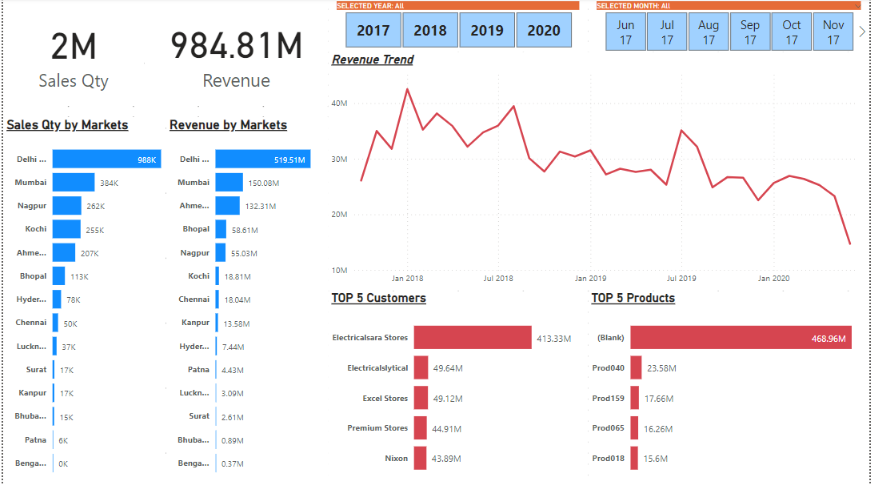

What the dashboard file says about the page in this screenshot:
{"tool":"powerbi","page":{"name":"Page 1","canvas":[1280,720],"ordinal":0},"visuals":[{"type":"card","fields":{"Values":["BaseMeasures.Revenue"]},"box":[208,0,272,160],"z":0},{"type":"card","fields":{"Values":["BaseMeasures.Sales Qty"]},"box":[0,0,208,160],"z":1000},{"type":"barChart","title":"Revenue by Markets","fields":{"Y":["BaseMeasures.Revenue"],"Category":["sales markets.markets_name"]},"box":[240,176,240,544],"z":2000},{"type":"barChart","title":"Sales Qty by Markets","fields":{"Y":["BaseMeasures.Sales Qty"],"Category":["sales markets.markets_name"]},"box":[0,176,240,544],"z":3000},{"type":"slicer","fields":{"Values":["sales date.year"]},"box":[480,0,384,80],"z":4000},{"type":"slicer","fields":{"Values":["sales date.cy_date"]},"box":[864,0,416,80],"z":5000},{"type":"barChart","title":"TOP 5 Customers","fields":{"Y":["BaseMeasures.Revenue"],"Category":["sales customers.custmer_name"]},"box":[480,432,384,288],"z":6000},{"type":"barChart","title":"TOP 5 Products","fields":{"Y":["BaseMeasures.Revenue"],"Category":["sales products.product_code"]},"box":[864,432,416,288],"z":7000},{"type":"lineChart","title":"Revenue Trend","fields":{"Y":["BaseMeasures.Revenue"],"Category":["sales date.cy_date.Variation.Date Hierarchy.Year","sales date.cy_date.Variation.Date Hierarchy.Quarter","sales date.cy_date.Variation.Date Hierarchy.Month","sales date.cy_date.Variation.Date Hierarchy.Day"]},"box":[480,80,800,352],"z":8000}]}

Visuals, with their boxes in screenshot pixels (x1, y1, x2, y2), scaled from the page's 1280x720 canvas onto the 871x485 screenshot:
card - BaseMeasures.Revenue: select_region(142, 0, 327, 108)
card - BaseMeasures.Sales Qty: select_region(0, 0, 142, 108)
"Revenue by Markets" barChart: select_region(163, 119, 327, 484)
"Sales Qty by Markets" barChart: select_region(0, 119, 163, 484)
slicer - sales date.year: select_region(327, 0, 588, 54)
slicer - sales date.cy_date: select_region(588, 0, 870, 54)
"TOP 5 Customers" barChart: select_region(327, 291, 588, 484)
"TOP 5 Products" barChart: select_region(588, 291, 870, 484)
"Revenue Trend" lineChart: select_region(327, 54, 870, 291)
